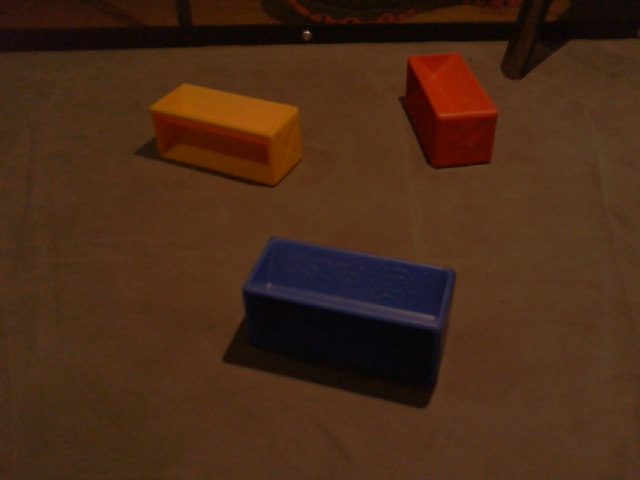BlueSample: (239, 234, 456, 385)
RedSample: (402, 50, 501, 172)
YellowSample: (148, 82, 308, 188)
